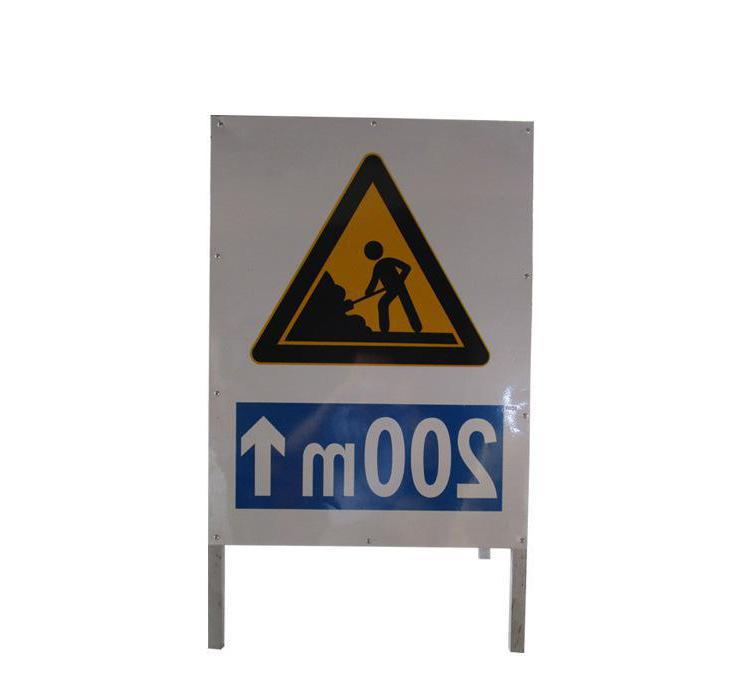sign: (210, 117, 524, 545)
